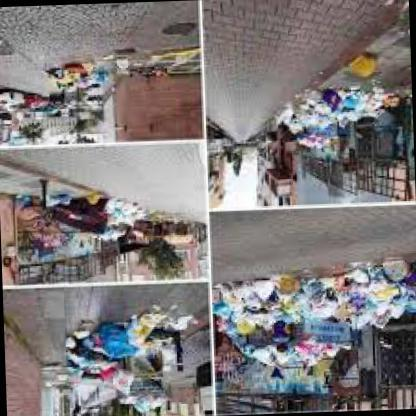Garbage: (314, 247, 409, 321), (281, 265, 415, 314), (232, 272, 268, 346), (91, 323, 127, 360), (120, 308, 156, 343), (320, 88, 364, 116), (366, 85, 394, 115), (298, 340, 334, 362), (292, 100, 320, 127), (111, 364, 134, 390), (118, 192, 139, 213)
